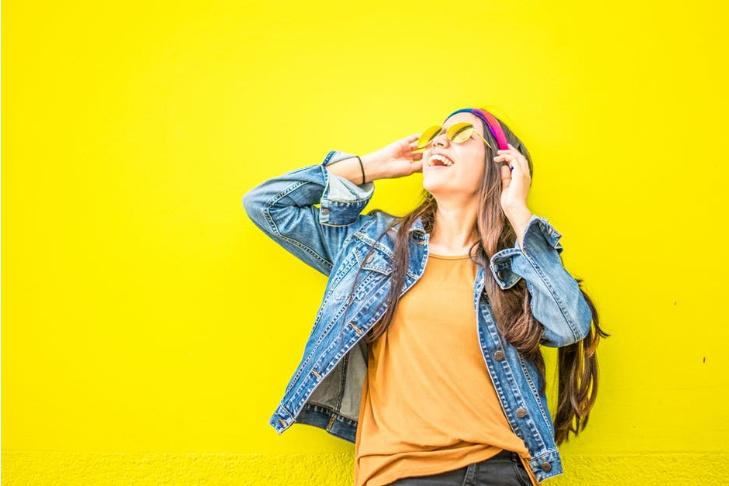face: (421, 114, 480, 194)
